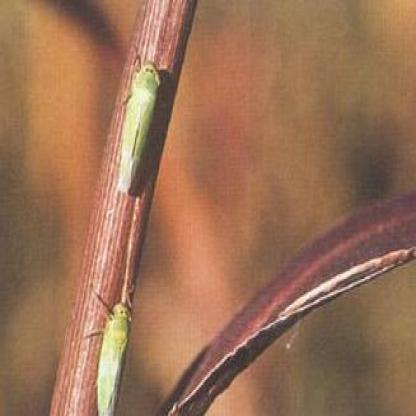Green-Leafhopper: (112, 54, 172, 199), (86, 275, 133, 416)
